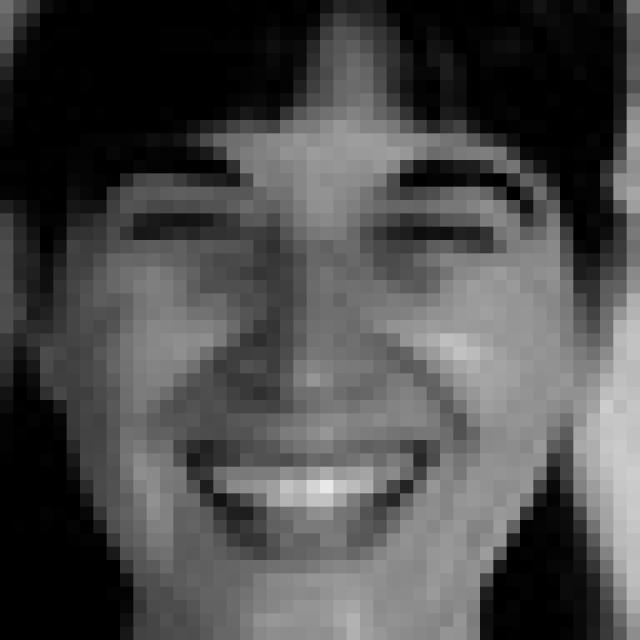happy: (90, 136, 543, 573)
